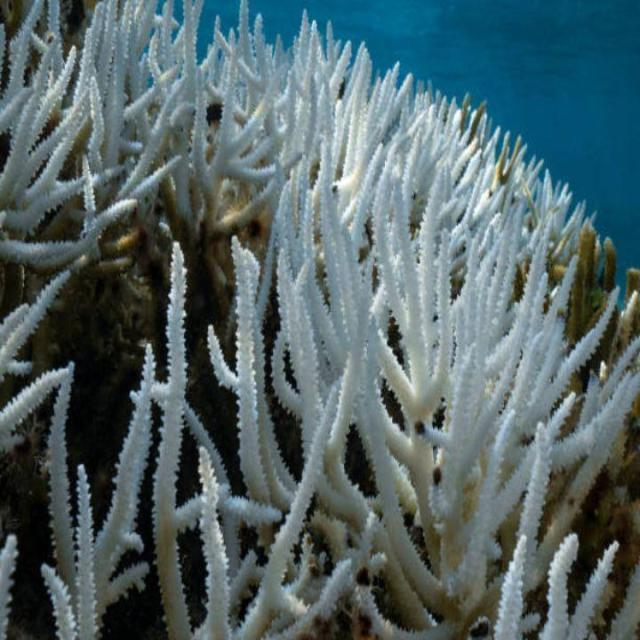Bleached: (9, 1, 591, 640)
